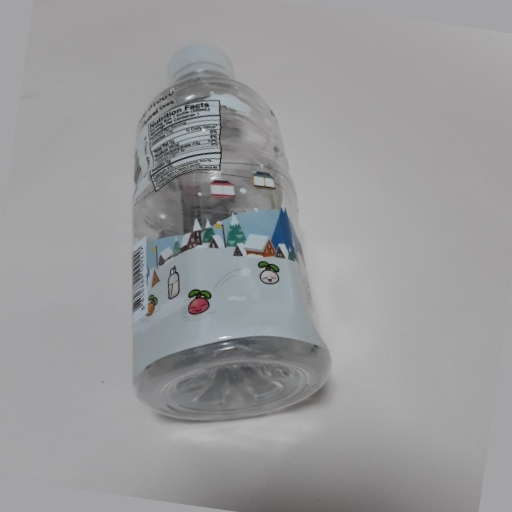Plastic_0: (128, 41, 333, 424)
